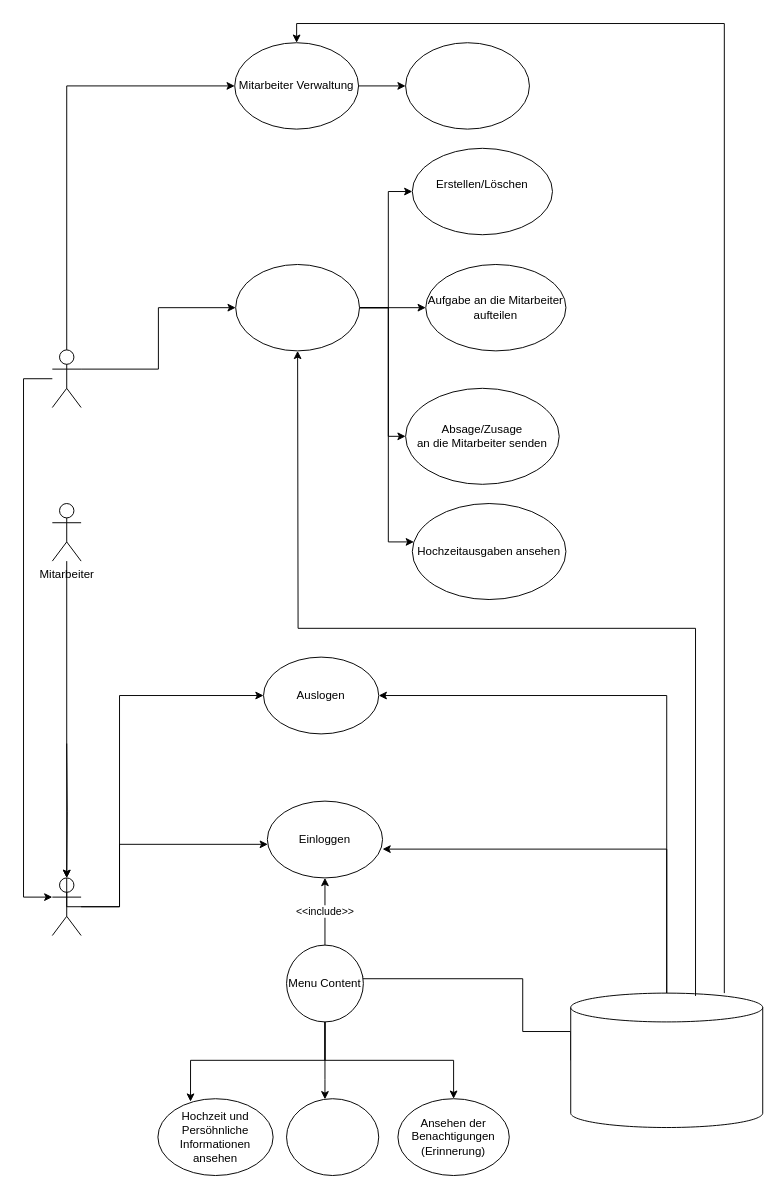
The diagram is 780 pixels wide and 1192 high, and some of its shapes have lost their labels. The centre of each missing label's shape, as x and y in pixels:
"Admin" belongs at point 66,378.
"APP" belongs at point 666,1060.
"Erstellen,Andern Löschen" belongs at point 467,85.
"Hochzeit Verwaltung" belongs at point 297,307.
"Kalendar einsehen" belongs at point 332,1137.
"User" belongs at point 66,906.
